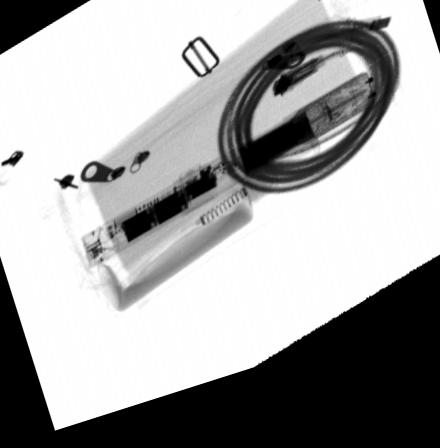Baton: (79, 92, 380, 277)
